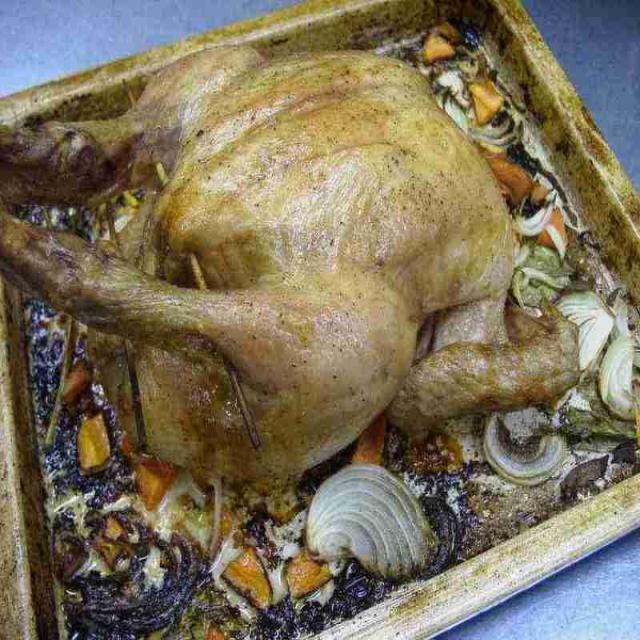Chicken: (0, 37, 581, 476)
